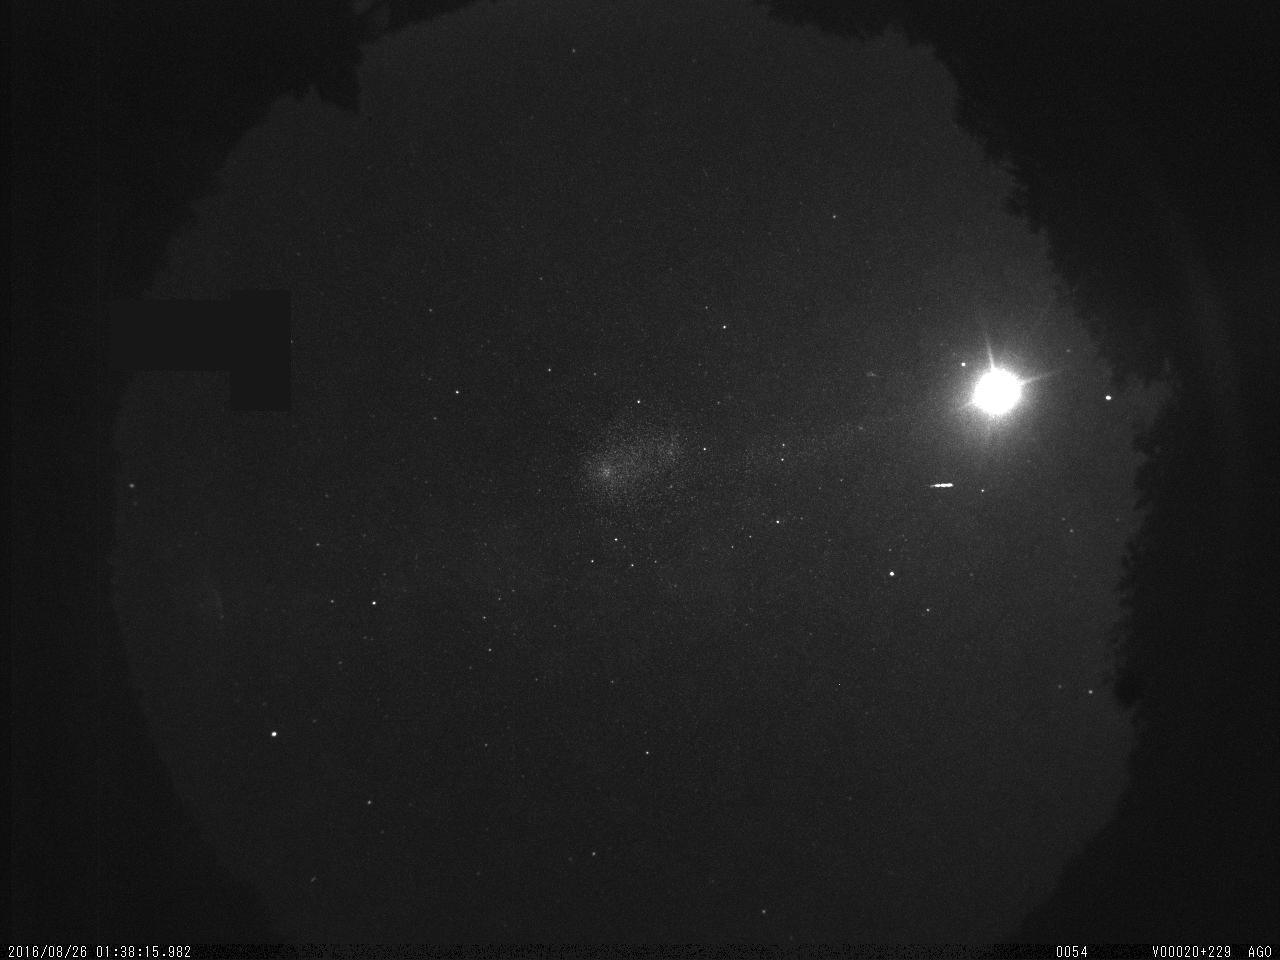meteor: (923, 472, 964, 498)
